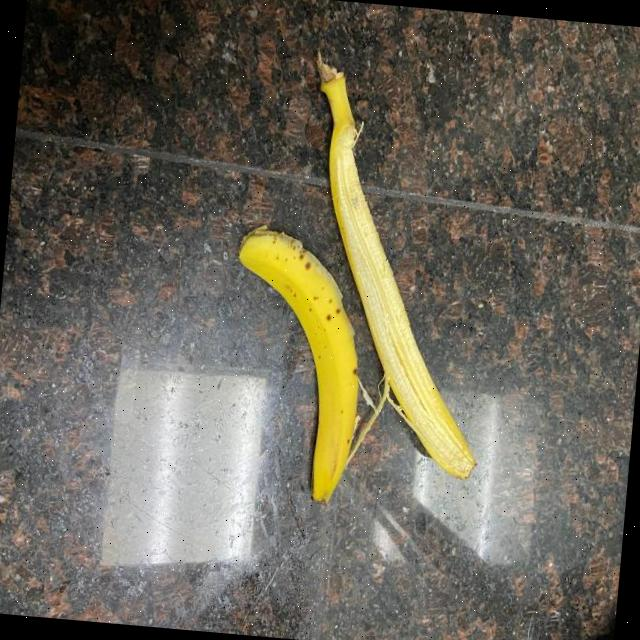banana-peel: (278, 49, 512, 482), (215, 220, 374, 507)
